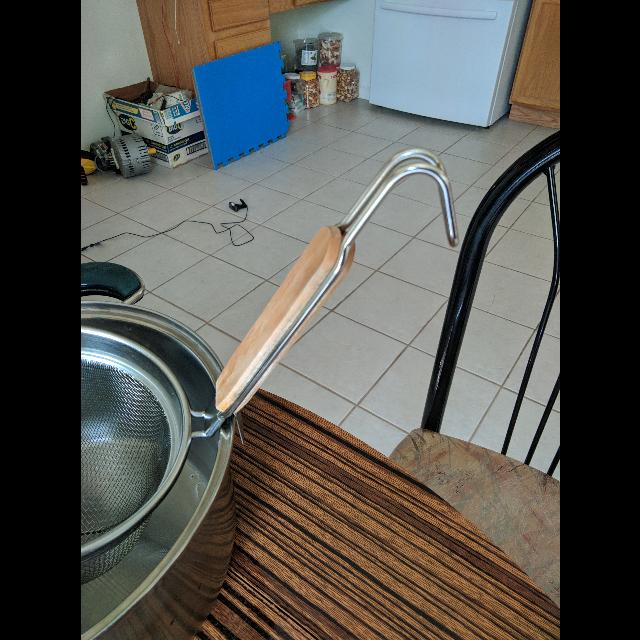Handle: (200, 146, 466, 442)
Strainer: (80, 325, 192, 558)
